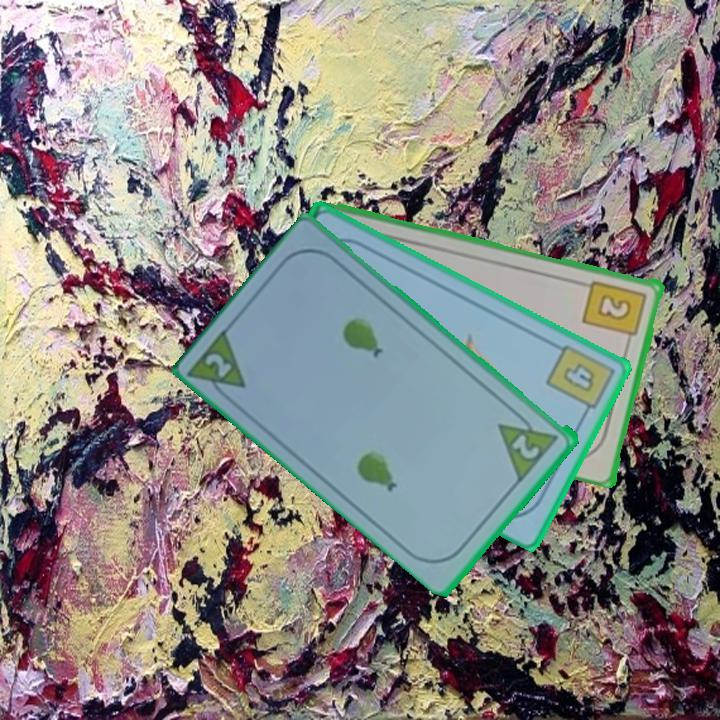2b: (580, 276, 650, 348)
2p: (187, 323, 250, 408), (494, 405, 562, 483)
4b: (542, 340, 618, 420)
